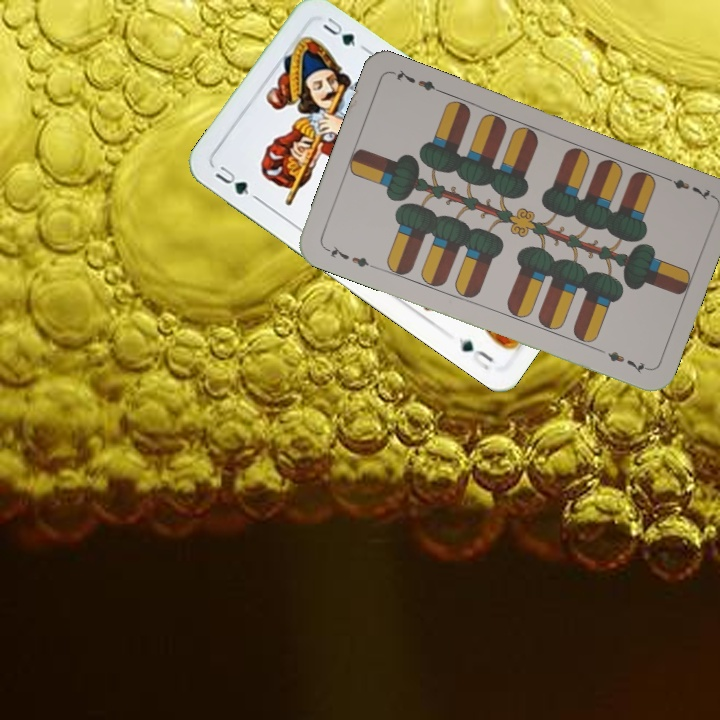E7: (658, 171, 715, 203), (321, 241, 378, 272)
GU: (211, 161, 261, 203)
